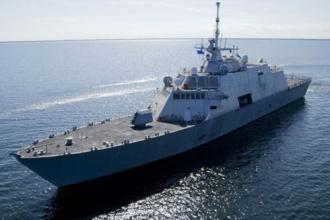warship: (11, 5, 312, 187)
